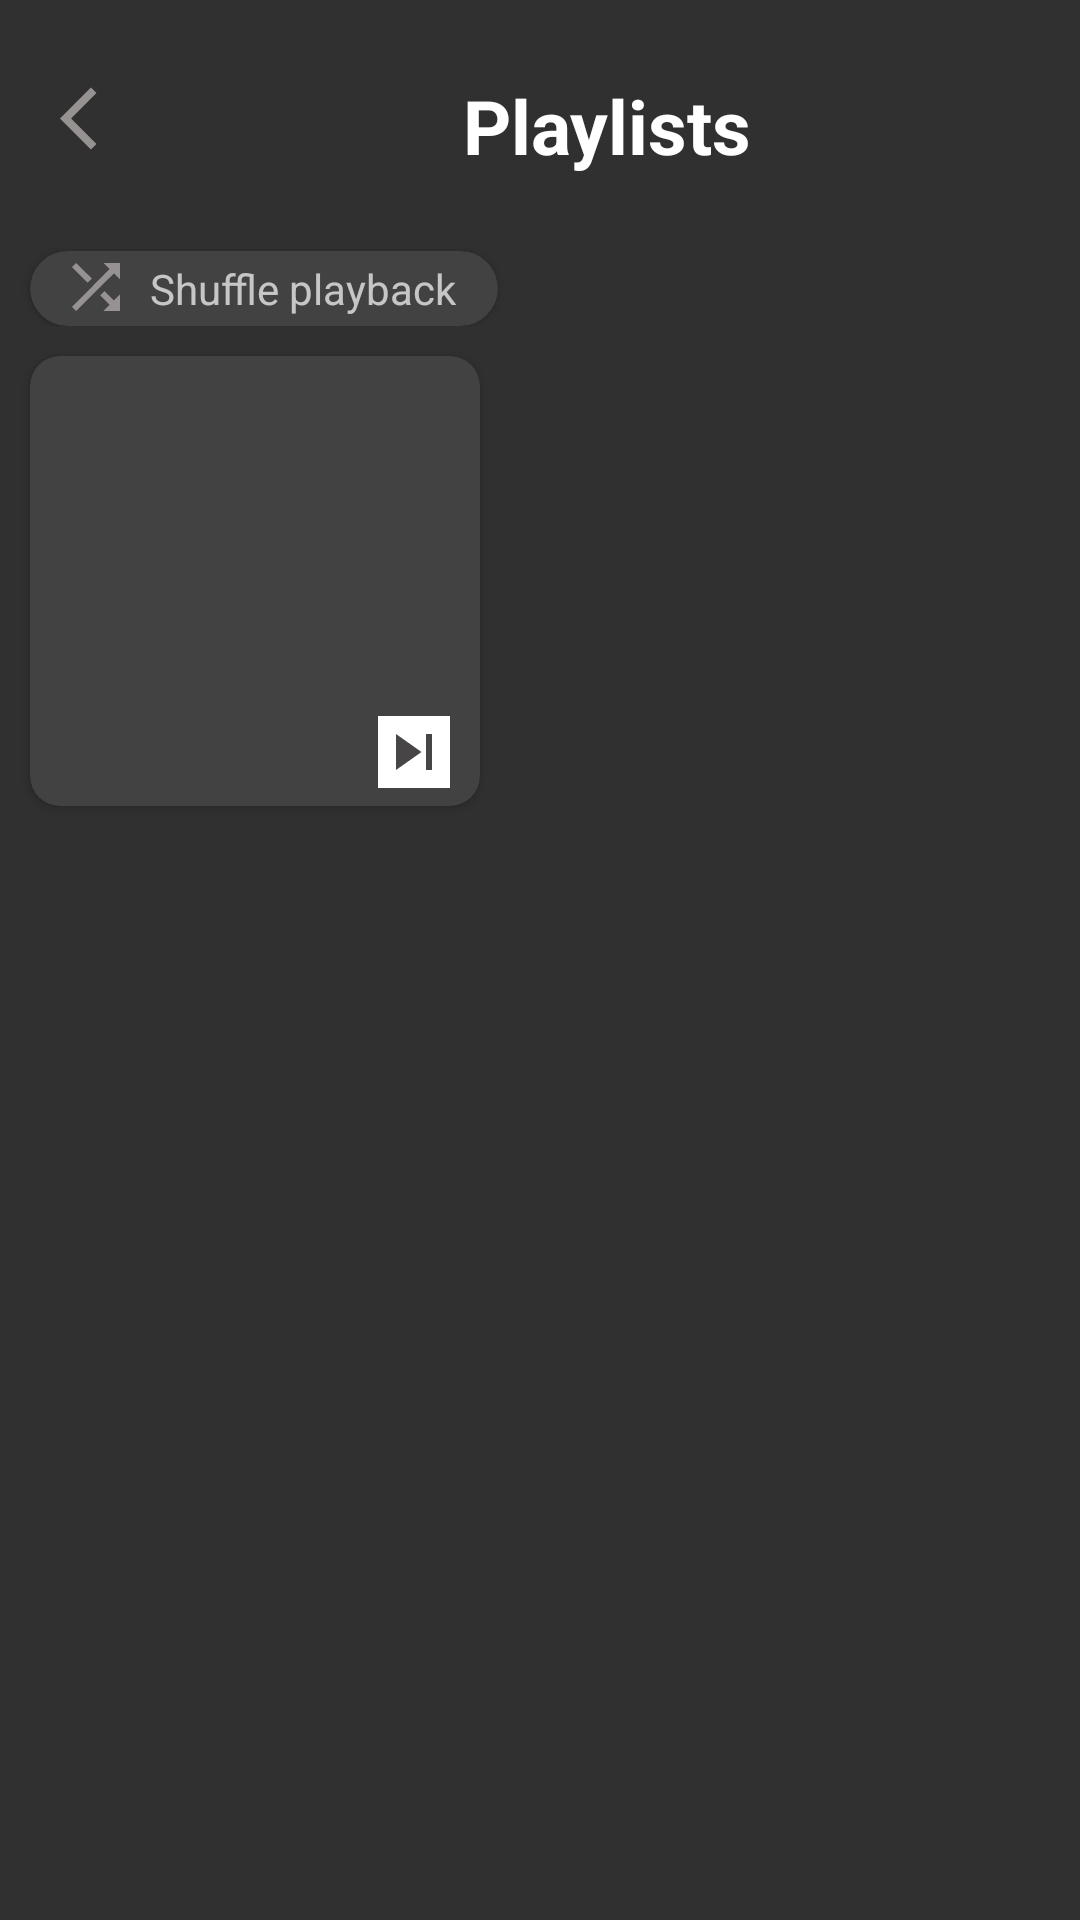

Icons on this 1080px x 1920px Android screen, each with its box as (x1, y1, x2, y2):
arrow back: (60, 88, 96, 149)
skip next: (378, 716, 450, 788)
